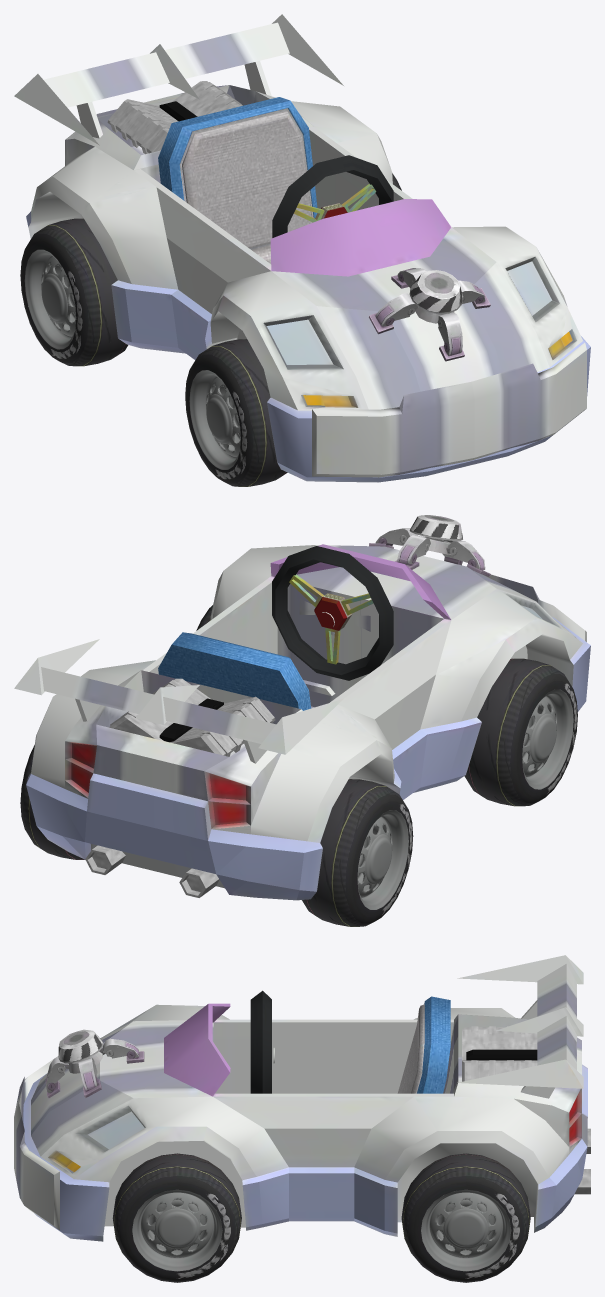
The model's file is 10-Eagle-Stock-White.glb.
The picture shows the model from 3 angles, top to bottom: view 1: azimuth 30°, elevation 25°; view 2: azimuth 150°, elevation 25°; view 3: azimuth 270°, elevation 25°; orthographic projection. The views are drawn at different scales.
Visible parts, largest first — view 1: Eagle.001, Regular, Tire (×2), Aero (×2), Engine_005, Torus, WEAPON MOUNT-Default_OBJ_3, INT_WHEEL_005, arm1.2-Default_OBJ_3, arm1.1-Default_OBJ_3; view 2: Eagle.001, Tire (×3), Aero (×2), Regular, Torus, Engine_005, INT_WHEEL_005, WEAPON MOUNT-Default_OBJ_3, arm1.3-Default_OBJ_3, arm1.1-Default_OBJ_3; view 3: Eagle.001, Tire (×2), Aero (×2), Engine_005, Regular, Torus, WEAPON MOUNT-Default_OBJ_3, arm1.3-Default_OBJ_3, arm1.1-Default_OBJ_3.001, arm1.2-Default_OBJ_3.
Boxes of the visible parts, x1=… form: Eagle.001: x1=14, y1=14, x2=590, y2=482; Regular: x1=158, y1=97, x2=317, y2=264; Tire (×2): x1=20, y1=218, x2=287, y2=486; Aero (×2): x1=24, y1=249, x2=240, y2=469; Engine_005: x1=107, y1=81, x2=242, y2=154; Torus: x1=272, y1=155, x2=393, y2=237; WEAPON MOUNT-Default_OBJ_3: x1=409, y1=270, x2=462, y2=323; INT_WHEEL_005: x1=294, y1=183, x2=376, y2=222; arm1.2-Default_OBJ_3: x1=437, y1=312, x2=462, y2=356; arm1.1-Default_OBJ_3: x1=375, y1=293, x2=418, y2=326; Eagle.001: x1=14, y1=544, x2=590, y2=900; Tire (×3): x1=20, y1=658, x2=577, y2=926; Aero (×2): x1=357, y1=689, x2=573, y2=909; Regular: x1=158, y1=632, x2=311, y2=710; Torus: x1=272, y1=546, x2=393, y2=680; Engine_005: x1=85, y1=678, x2=275, y2=897; INT_WHEEL_005: x1=289, y1=574, x2=373, y2=664; WEAPON MOUNT-Default_OBJ_3: x1=409, y1=515, x2=462, y2=555; arm1.3-Default_OBJ_3: x1=397, y1=534, x2=430, y2=563; arm1.1-Default_OBJ_3: x1=447, y1=541, x2=485, y2=569; Eagle.001: x1=14, y1=955, x2=587, y2=1241; Tire (×2): x1=112, y1=1153, x2=530, y2=1282; Aero (×2): x1=132, y1=1189, x2=511, y2=1271; Engine_005: x1=462, y1=1026, x2=590, y2=1194; Regular: x1=397, y1=996, x2=450, y2=1093; Torus: x1=250, y1=990, x2=271, y2=1093; WEAPON MOUNT-Default_OBJ_3: x1=58, y1=1029, x2=103, y2=1073; arm1.3-Default_OBJ_3: x1=103, y1=1038, x2=138, y2=1058; arm1.1-Default_OBJ_3.001: x1=78, y1=1057, x2=97, y2=1090; arm1.2-Default_OBJ_3: x1=45, y1=1056, x2=65, y2=1092.
Bounding box in the file's own units: 4.84 × 3.5 × 8.3.
Materials: 8 (8 with a texture image).
